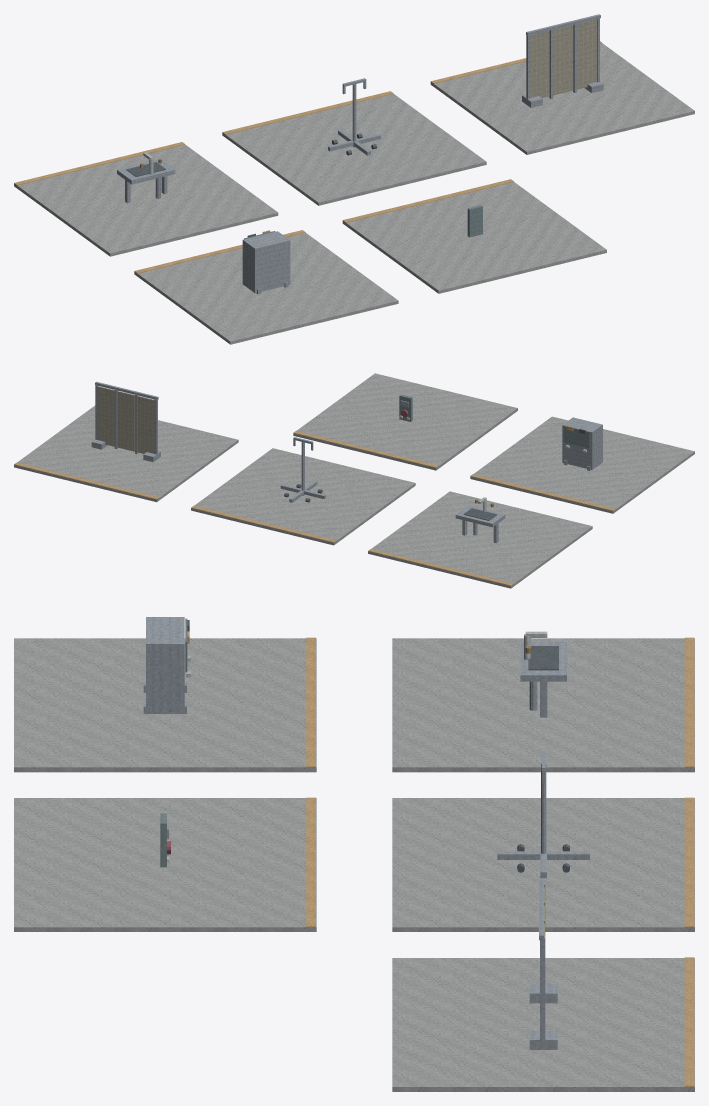
File: level_blockout_kit_asylum_p04.glb
3 views of the same model, one above another, from view 1: azimuth 30°, elevation 25°; view 2: azimuth 150°, elevation 25°; view 3: azimuth 270°, elevation 25° (orthographic). The views are drawn at different scales.
Visible parts, largest first — view 1: level_blockout_kit_asylum_p04; view 2: level_blockout_kit_asylum_p04; view 3: level_blockout_kit_asylum_p04.
Part boxes in pixels (x1,y1,x2,y2): level_blockout_kit_asylum_p04: (14,14,694,344); level_blockout_kit_asylum_p04: (14,373,694,588); level_blockout_kit_asylum_p04: (14,617,694,1091).
Bounding box in the file's own units: 19.65 × 2.45 × 12.6.
Materials: 10 (10 with a texture image).
